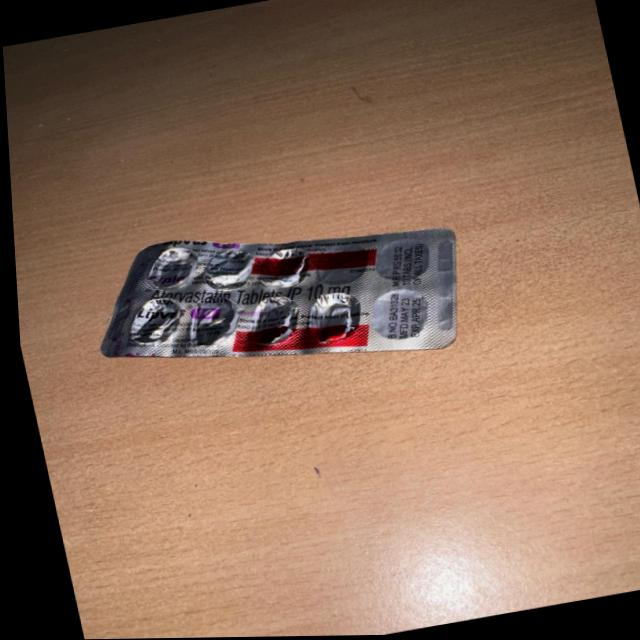medicine: (74, 221, 482, 371)
